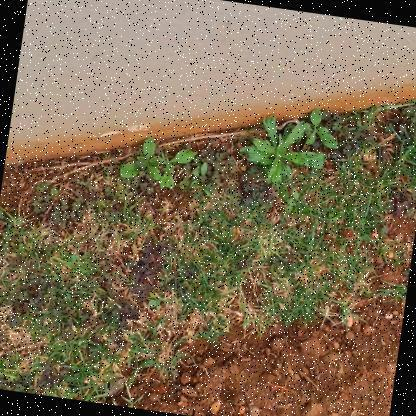Weeds: (237, 112, 333, 196), (117, 132, 166, 186), (146, 142, 196, 194), (295, 104, 343, 153)
